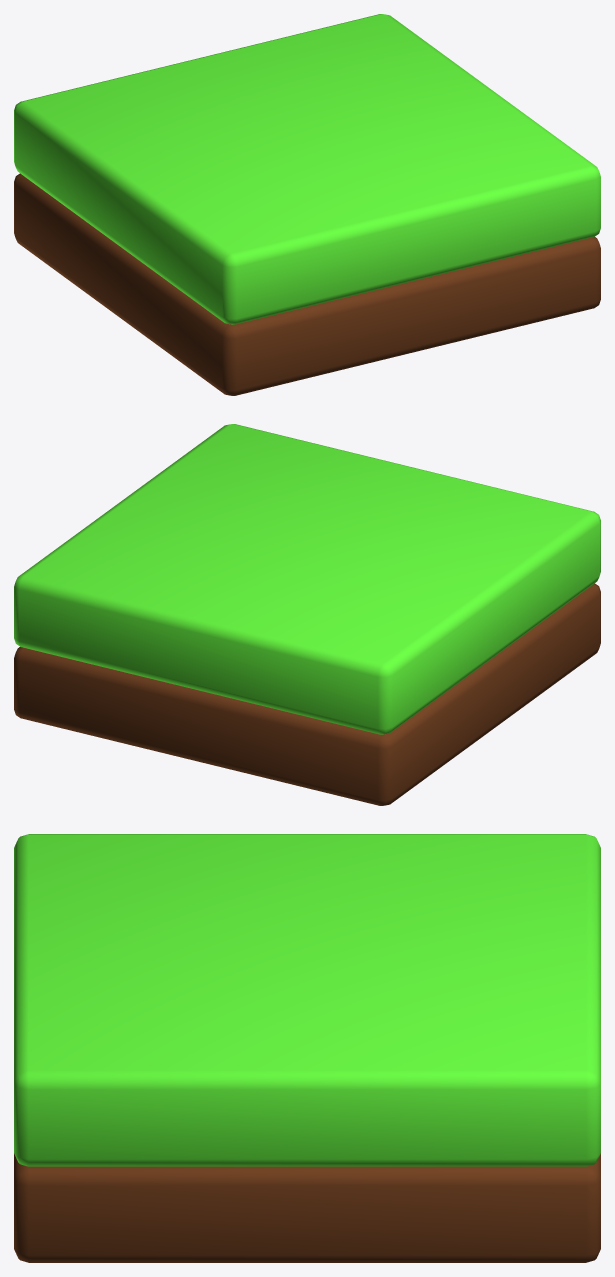
The model's file is ground_grass.glb.
3 renders of one model, top to bottom at view 1: azimuth 30°, elevation 25°; view 2: azimuth 150°, elevation 25°; view 3: azimuth 270°, elevation 25°, orthographic. The views are drawn at different scales.
Visible parts, largest first — view 1: ground_grass; view 2: ground_grass; view 3: ground_grass.
Part boxes in pixels (x1,y1,x2,y2): ground_grass: (14, 14, 600, 395); ground_grass: (14, 424, 600, 805); ground_grass: (14, 834, 600, 1262).
Size of the model in its own units: 8 by 2.89 by 8.
